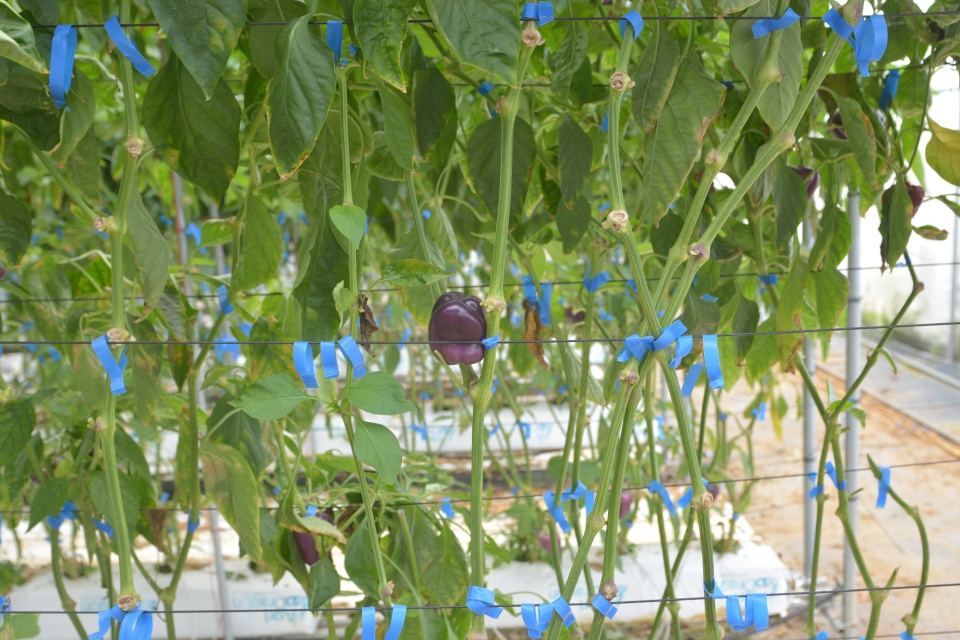fruit: (428, 287, 488, 367), (292, 509, 335, 564)
